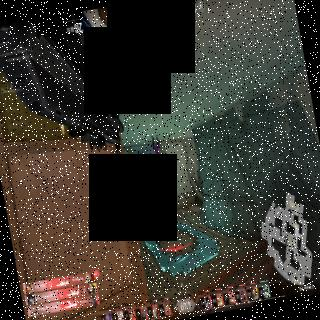ENEMY-BODY: (151, 134, 164, 167)
ENEMY-HEAD: (158, 160, 161, 165)
